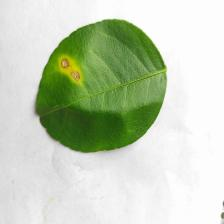greening: (33, 38, 166, 108)
